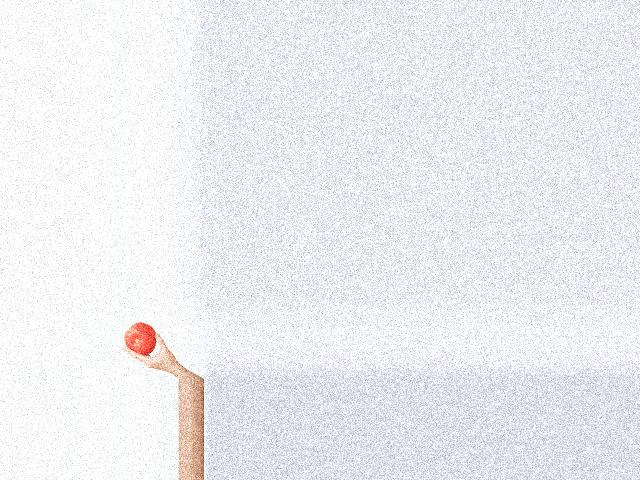tomato: (123, 322, 155, 354)
